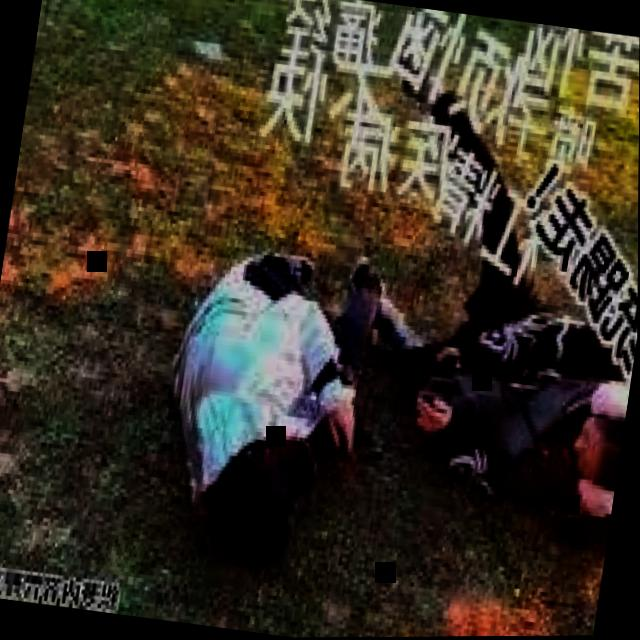Fall-Detected: (318, 49, 640, 571)
